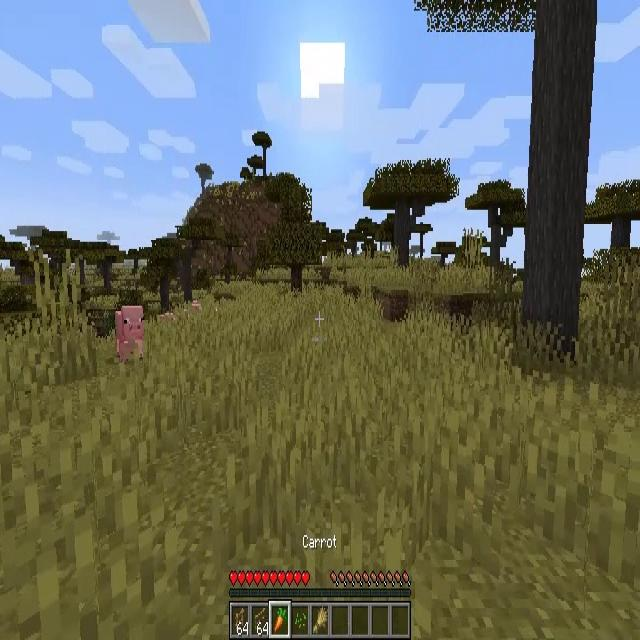pig: (114, 306, 143, 362)
